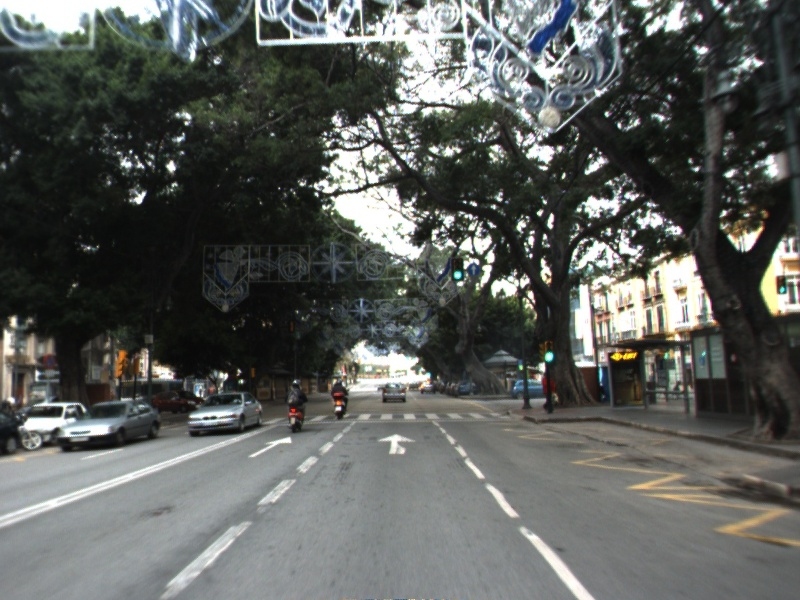STRAIGHT: (246, 434, 293, 459), (376, 431, 418, 456)
